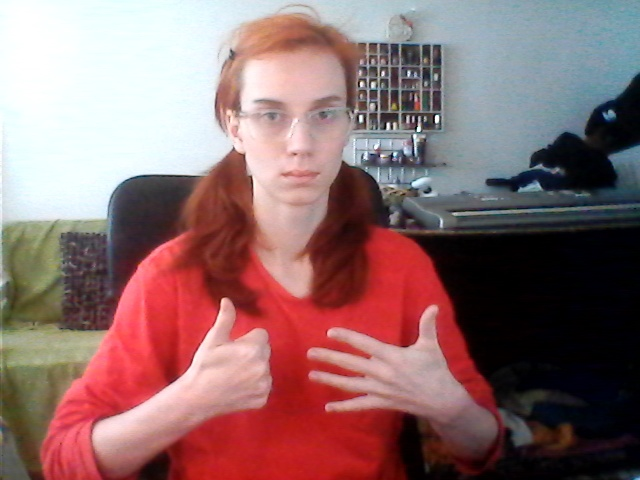sest: (190, 294, 455, 423)
